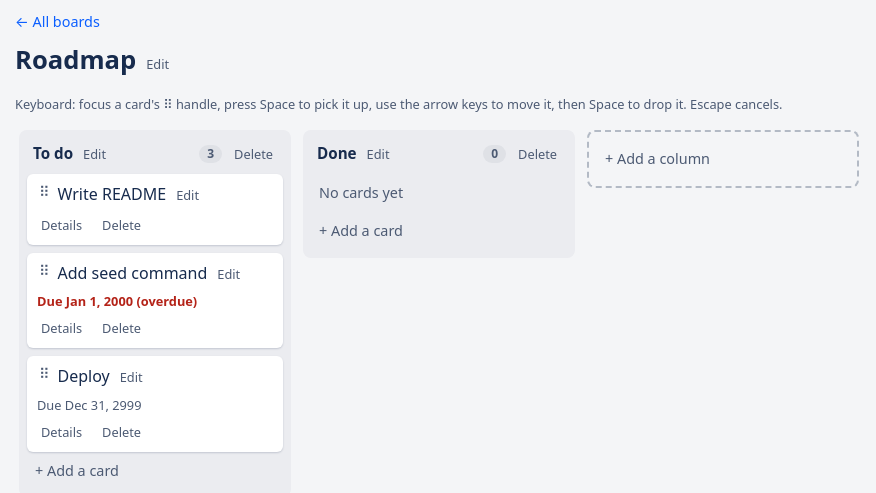
Test case: BoardPage columns › deletes a column and its cards when confirmed
The image size is (876, 493).
Click the button with aria-label "Delete column To do" at (254, 154), box [230, 143, 277, 166]
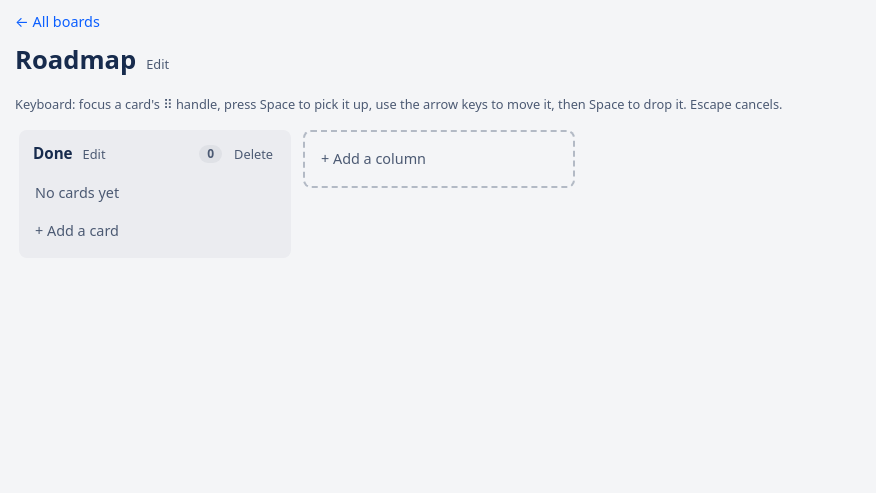
Check: the heading "To do" is gone
Check: the text "Write README" is gone
